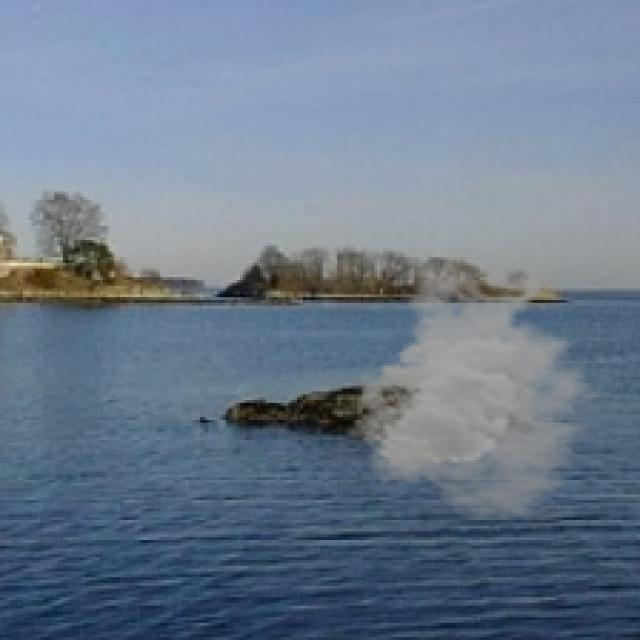smoke: (343, 260, 614, 523)
